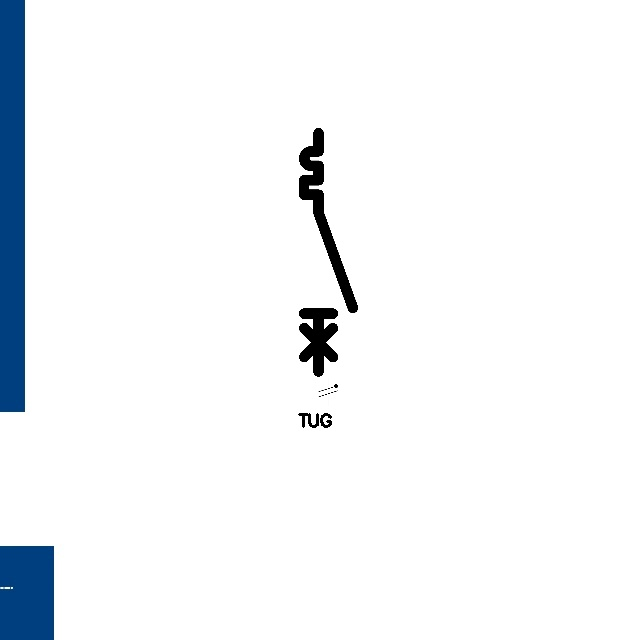interruptor_termomagnetico: (298, 127, 359, 378)
